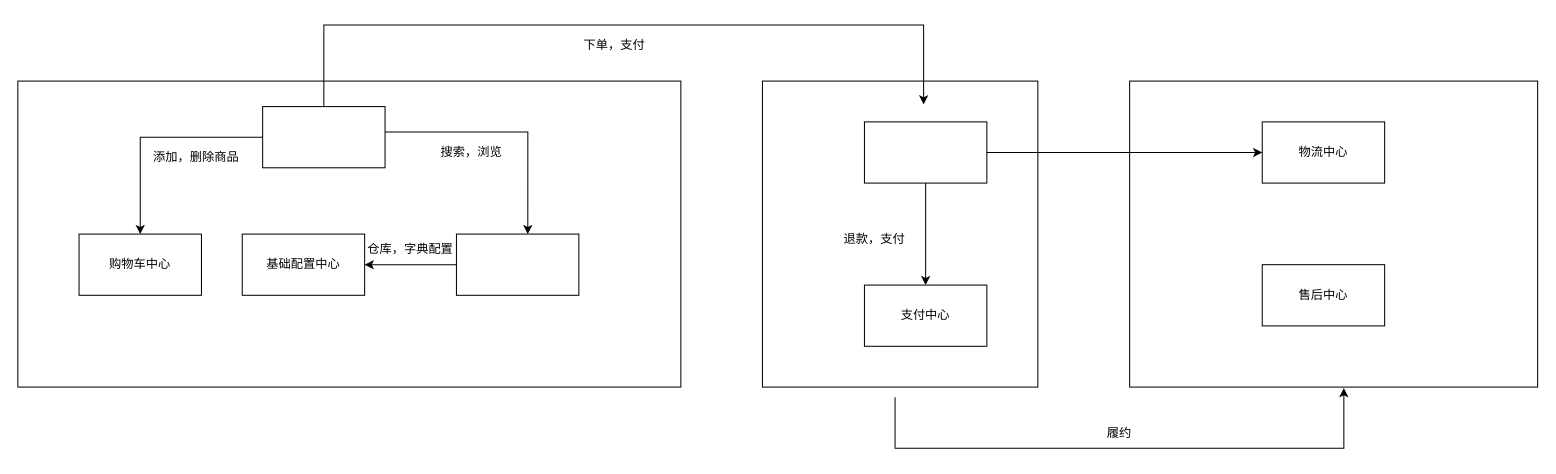
Image size: 1556x474. Some labels were removed from this diagram. Here are the shapes that lost their labels. From the top down, the centre of each, then its label:
point 323,137: 用户会员中心
point 925,152: 订单中心
point 517,264: 商品中心
